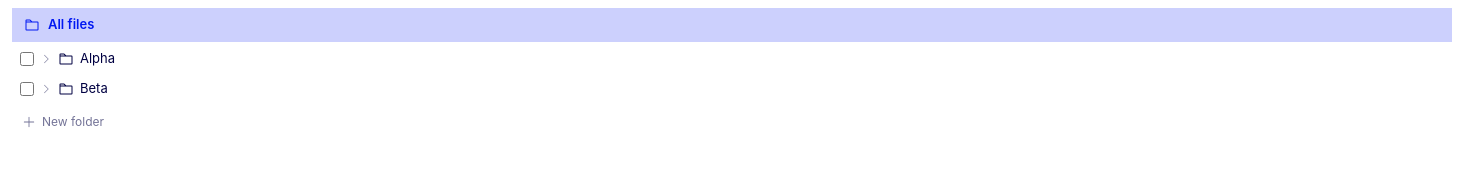
Scenario: FolderTree › shows an inline create input when New folder is clicked
expect the text "Alpha" is shown: met, box left=80, top=49, right=115, bottom=68
What coordinates should you click on to do the following:
click the button with aria-label "Create folder at root level"
I would click on:
 (73, 121)
Its box is left=12, top=108, right=1452, bottom=136.
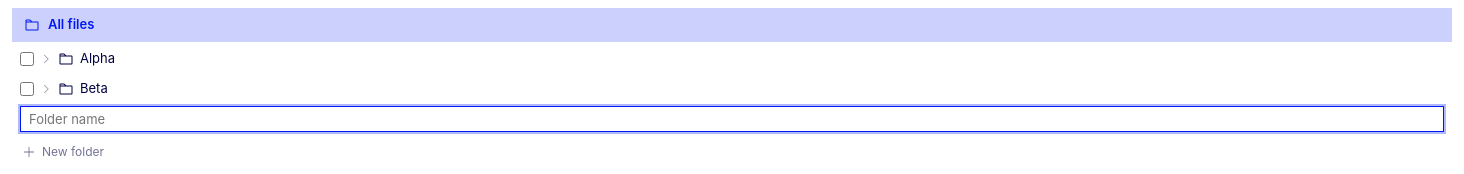
expect the field named "New folder name" is shown: met, box left=20, top=106, right=1444, bottom=132
